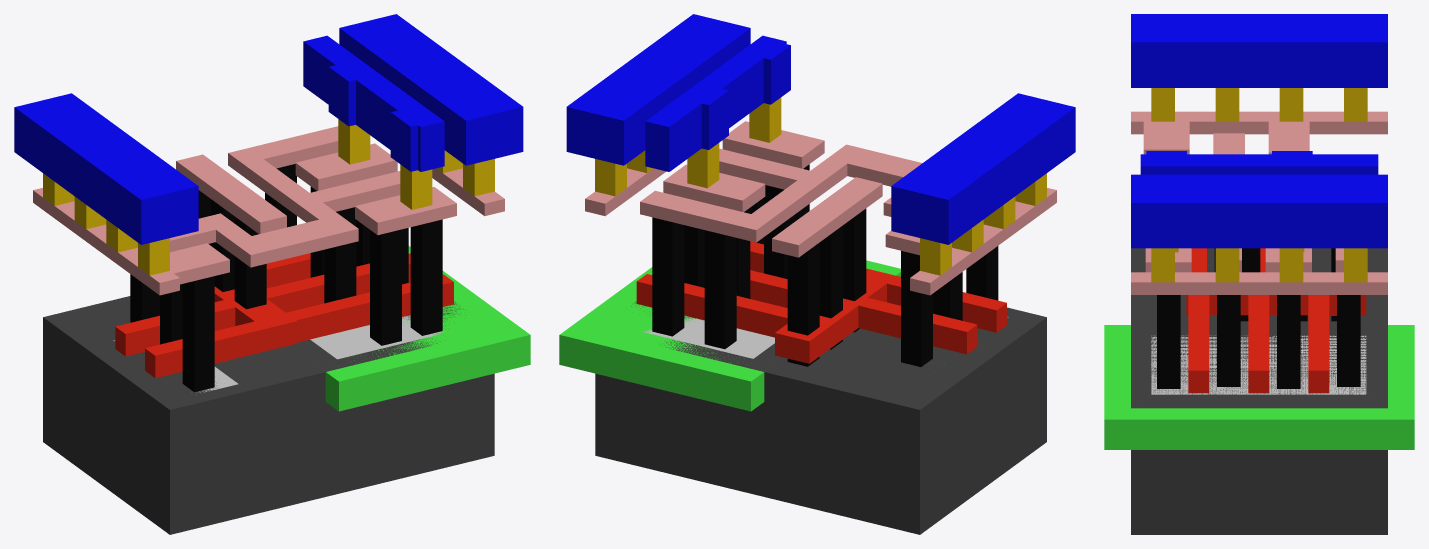
The model's file is sky130_fd_sc_hd__lpflow_clkinvkapwr_2.obj.
3 renders of one model, left to right at view 1: azimuth 30°, elevation 25°; view 2: azimuth 150°, elevation 25°; view 3: azimuth 270°, elevation 25°, orthographic.
Visible parts, largest first — view 1: subs, metal1, li, licon, poly, nwell, mcon, tap; view 2: subs, metal1, li, licon, nwell, poly, mcon, tap; view 3: metal1, subs, nwell, li, licon, poly, mcon, tap.
Boxes of the visible parts, bbox=[...] form: subs: bbox=[43, 296, 494, 534]; metal1: bbox=[14, 14, 523, 244]; li: bbox=[33, 126, 504, 295]; licon: bbox=[130, 164, 442, 392]; poly: bbox=[115, 253, 453, 378]; nwell: bbox=[325, 246, 530, 411]; mcon: bbox=[43, 119, 494, 275]; tap: bbox=[310, 315, 446, 359]; subs: bbox=[595, 301, 1046, 534]; metal1: bbox=[566, 14, 1075, 244]; li: bbox=[585, 121, 1056, 295]; licon: bbox=[652, 164, 998, 366]; nwell: bbox=[559, 260, 900, 411]; poly: bbox=[636, 241, 1006, 363]; mcon: bbox=[595, 97, 1046, 275]; tap: bbox=[642, 316, 774, 358]; metal1: bbox=[1131, 14, 1387, 248]; subs: bbox=[1131, 248, 1387, 534]; nwell: bbox=[1104, 325, 1414, 449]; li: bbox=[1131, 111, 1387, 294]; licon: bbox=[1157, 248, 1360, 388]; poly: bbox=[1186, 248, 1366, 393]; mcon: bbox=[1151, 88, 1367, 282]; tap: bbox=[1151, 335, 1366, 394].
Size of the model in its own units: 3.2 by 2.74 by 2.22.
